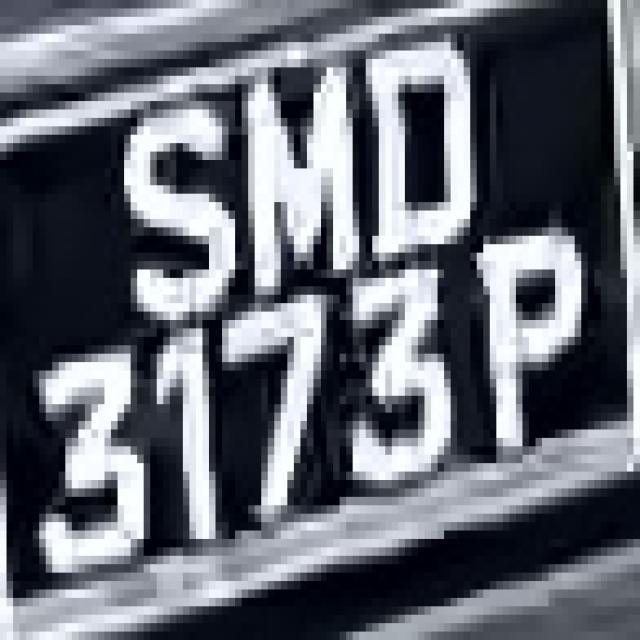1: (137, 328, 235, 598)
3: (7, 337, 156, 606), (340, 261, 450, 488)
7: (229, 286, 333, 556)
D: (353, 26, 483, 270)
M: (228, 59, 366, 278)
P: (450, 219, 600, 463)
S: (98, 59, 235, 345)
